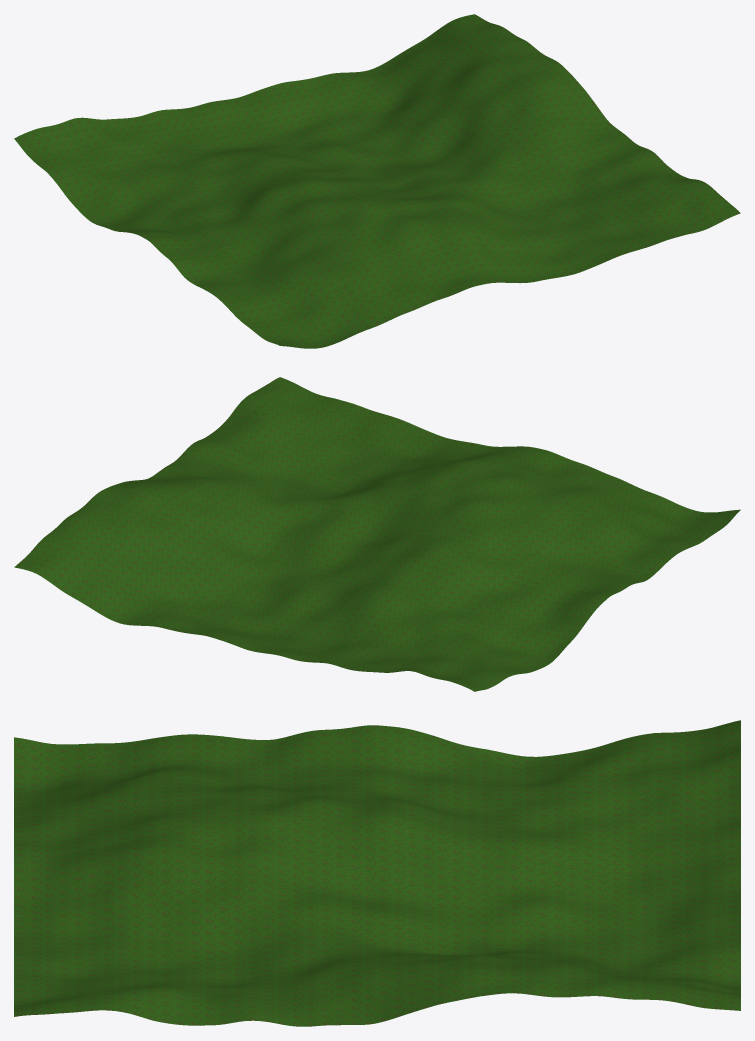
File: GrassHills.glb
The picture shows the model from 3 angles, top to bottom: view 1: azimuth 30°, elevation 25°; view 2: azimuth 150°, elevation 25°; view 3: azimuth 270°, elevation 25°; orthographic projection. The views are drawn at different scales.
Parts seen in each view (by area): view 1: GrassHills; view 2: GrassHills; view 3: GrassHills.
Part boxes in pixels (x1=…): GrassHills: x1=14, y1=14, x2=740, y2=348; GrassHills: x1=14, y1=377, x2=740, y2=691; GrassHills: x1=14, y1=720, x2=740, y2=1026.
Bounding box in the file's own units: 200 × 21.79 × 200.
Materials: 1 (1 with a texture image).
